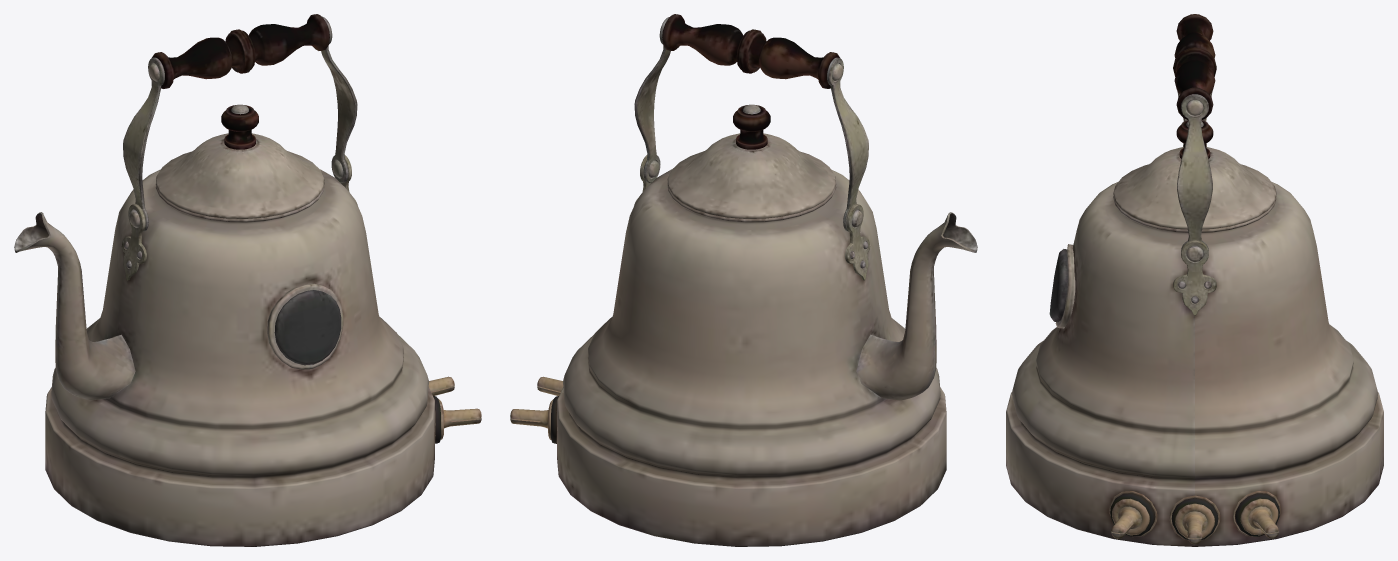
Rendered from kettle.glb.
The picture shows the model from 3 angles, left to right: view 1: azimuth 30°, elevation 25°; view 2: azimuth 150°, elevation 25°; view 3: azimuth 270°, elevation 25°; orthographic projection. The views are drawn at different scales.
Visible parts, largest first — view 1: vintage_electric_kettle; view 2: vintage_electric_kettle; view 3: vintage_electric_kettle.
Boxes of the visible parts, x1,y1,x2,y2 form: vintage_electric_kettle: [14, 14, 481, 546]; vintage_electric_kettle: [510, 14, 977, 546]; vintage_electric_kettle: [1006, 14, 1383, 546].
Bounding box in the file's own units: 0.3209 × 0.3047 × 0.2486.
Materials: 2 (2 with a texture image).
